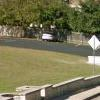Tree: (16, 0, 100, 24)
